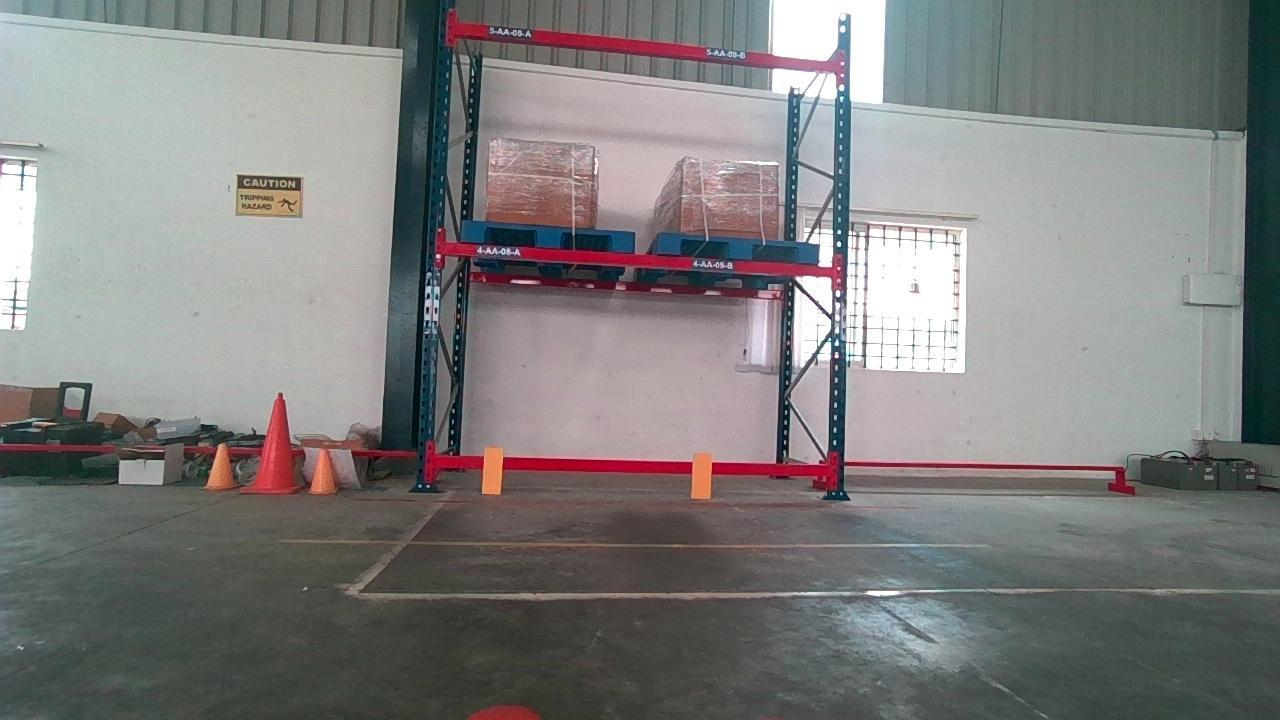h_rack: (452, 22, 841, 71), (436, 240, 837, 277), (422, 457, 837, 477)
orange_strip: (482, 447, 505, 495), (691, 453, 711, 499)
small_pallet: (456, 224, 634, 248), (655, 236, 822, 258)
yellow_line: (290, 535, 996, 549)
